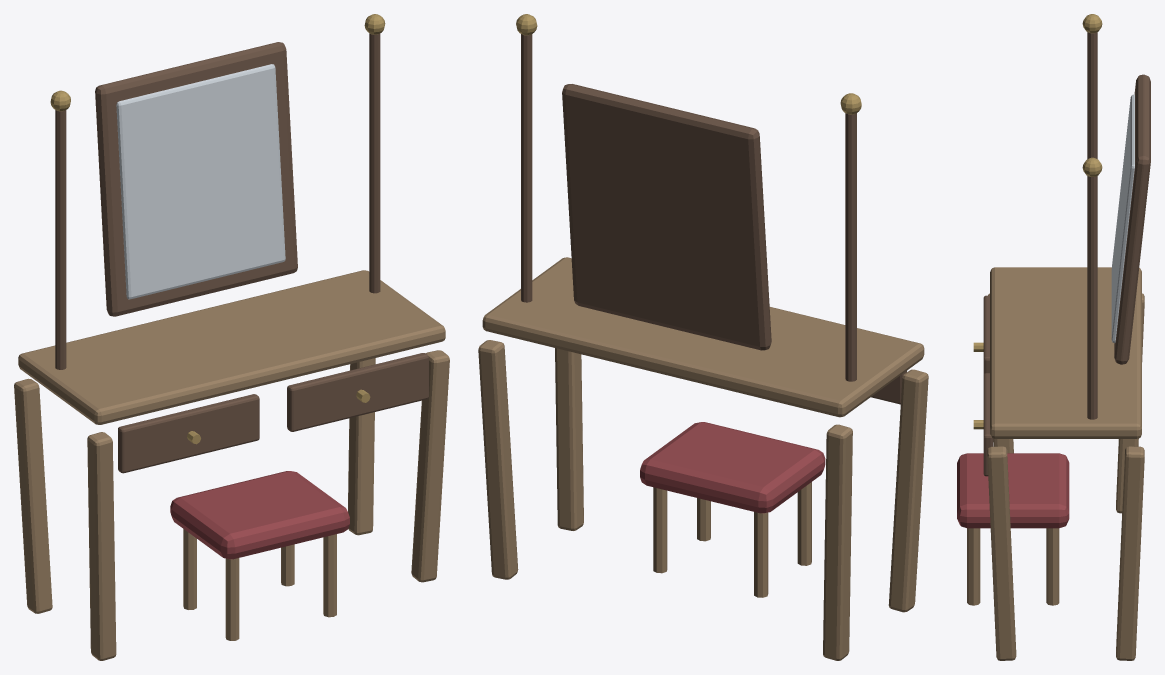
3 renders of one model, left to right at view 1: azimuth 30°, elevation 25°; view 2: azimuth 150°, elevation 25°; view 3: azimuth 270°, elevation 25°, orthographic. The views are drawn at different scales.
Visible parts, largest first — view 1: vanityTable; view 2: vanityTable; view 3: vanityTable.
Boxes of the visible parts, x1,y1,x2,y2 form: vanityTable: [14, 14, 449, 660]; vanityTable: [478, 14, 928, 660]; vanityTable: [957, 14, 1150, 660].
Size of the model in its own units: 1.17 by 1.66 by 0.5867.
